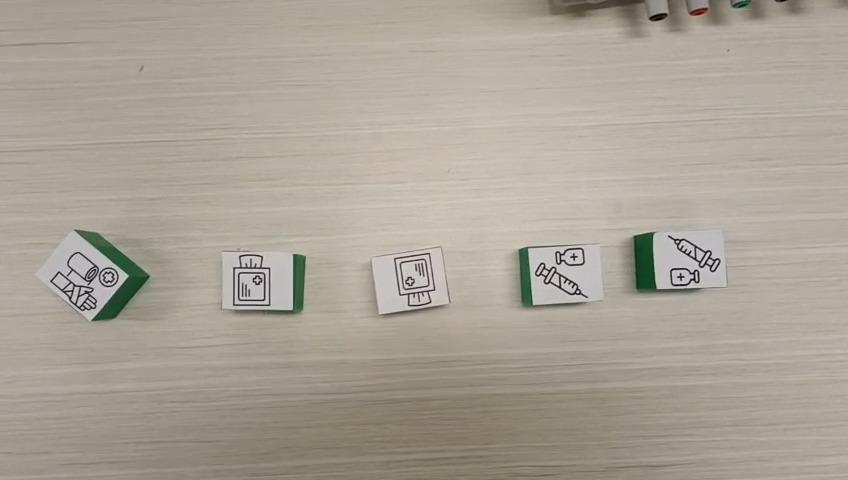Bandages: (32, 229, 149, 322)
Gauze: (368, 244, 452, 315), (221, 250, 308, 314)
antiseptic cream: (632, 229, 729, 292), (517, 241, 605, 306)
